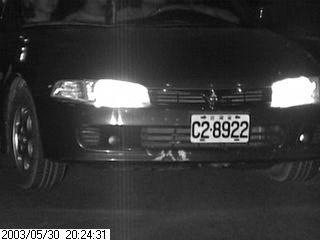plate: (190, 112, 250, 145)
